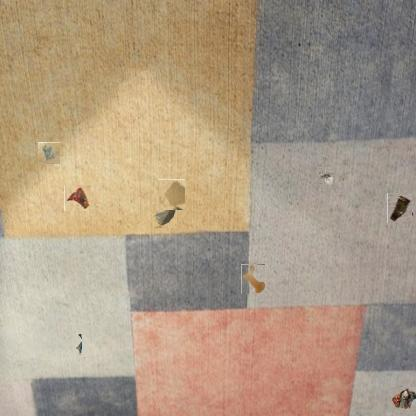dirty: (386, 195, 414, 222), (389, 385, 416, 412), (64, 185, 91, 211), (153, 204, 177, 228), (39, 142, 60, 164), (316, 167, 336, 188), (76, 334, 84, 354)
liquid: (158, 179, 186, 210), (241, 264, 265, 294)
